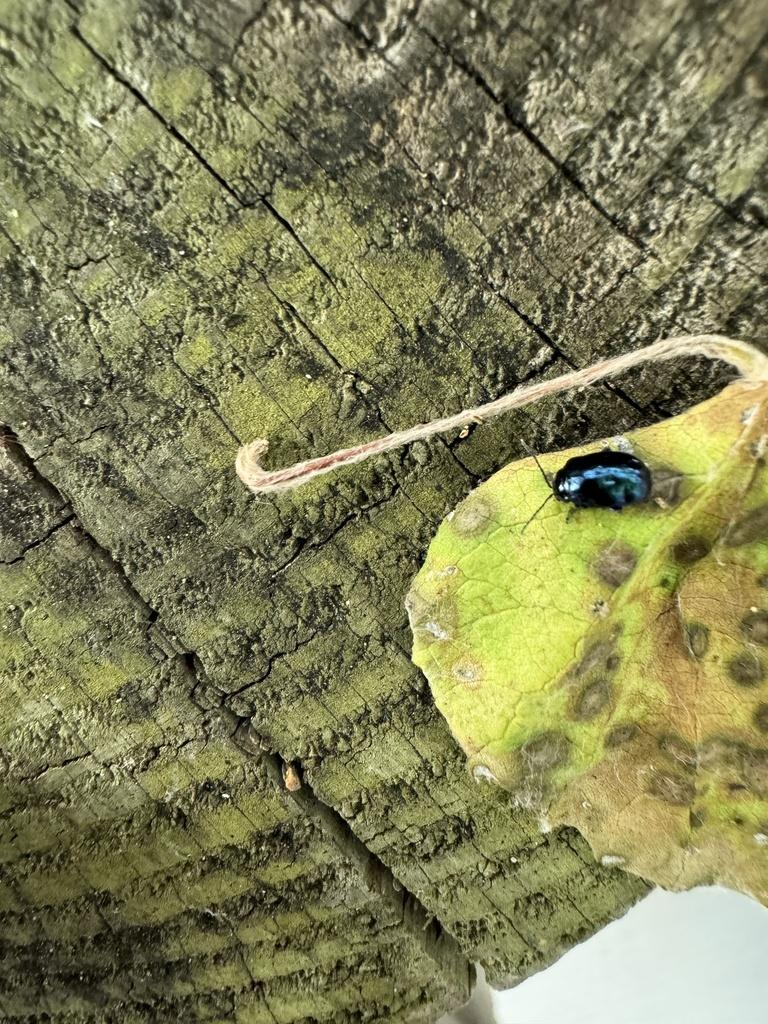flea_beetle: (479, 396, 679, 551)
